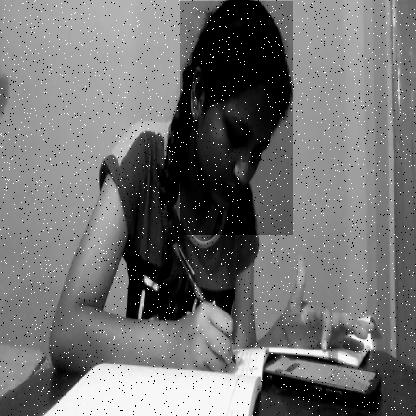Distracted: (180, 1, 293, 235)
